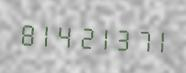eight: (17, 16, 35, 49)
four: (55, 18, 73, 51)
one: (36, 17, 54, 50), (93, 20, 111, 53), (150, 23, 168, 56)
seven: (131, 22, 149, 55)
three: (112, 21, 130, 54)
two: (74, 19, 92, 52)
